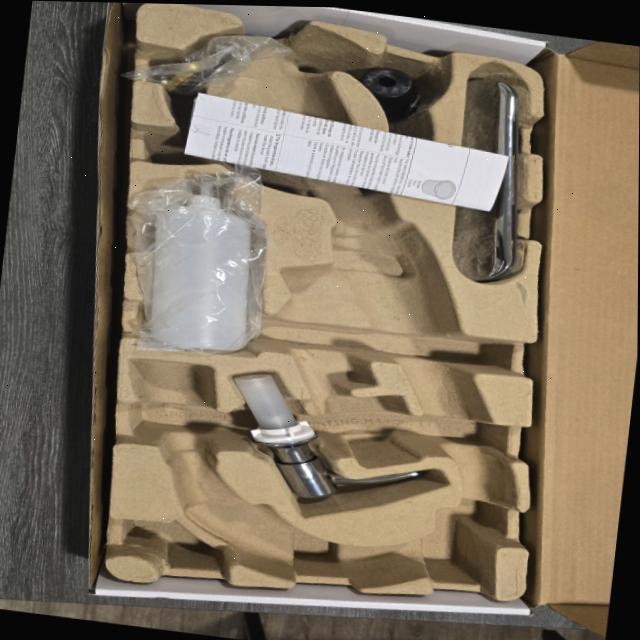1m: (130, 19, 512, 584)
2: (231, 373, 421, 502)
3: (147, 169, 250, 350)
4o: (453, 78, 516, 281)
5: (354, 67, 423, 120)
6: (120, 32, 296, 97)
7m: (144, 107, 281, 185)
8: (182, 91, 510, 212)
